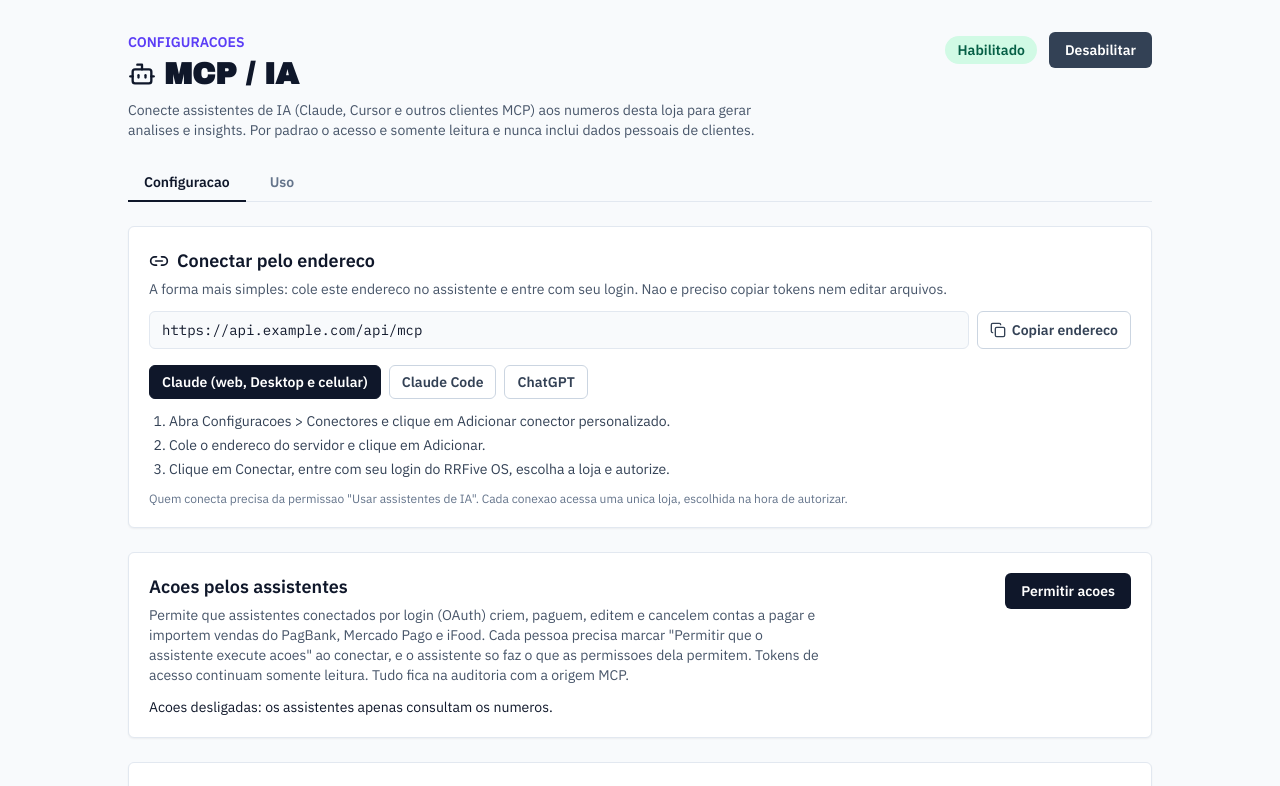
Test case: McpSettingsClient › refreshes the usage log keeping the current filters and page
Click the tab "Uso".
click(282, 183)  # box [254,164,310,202]
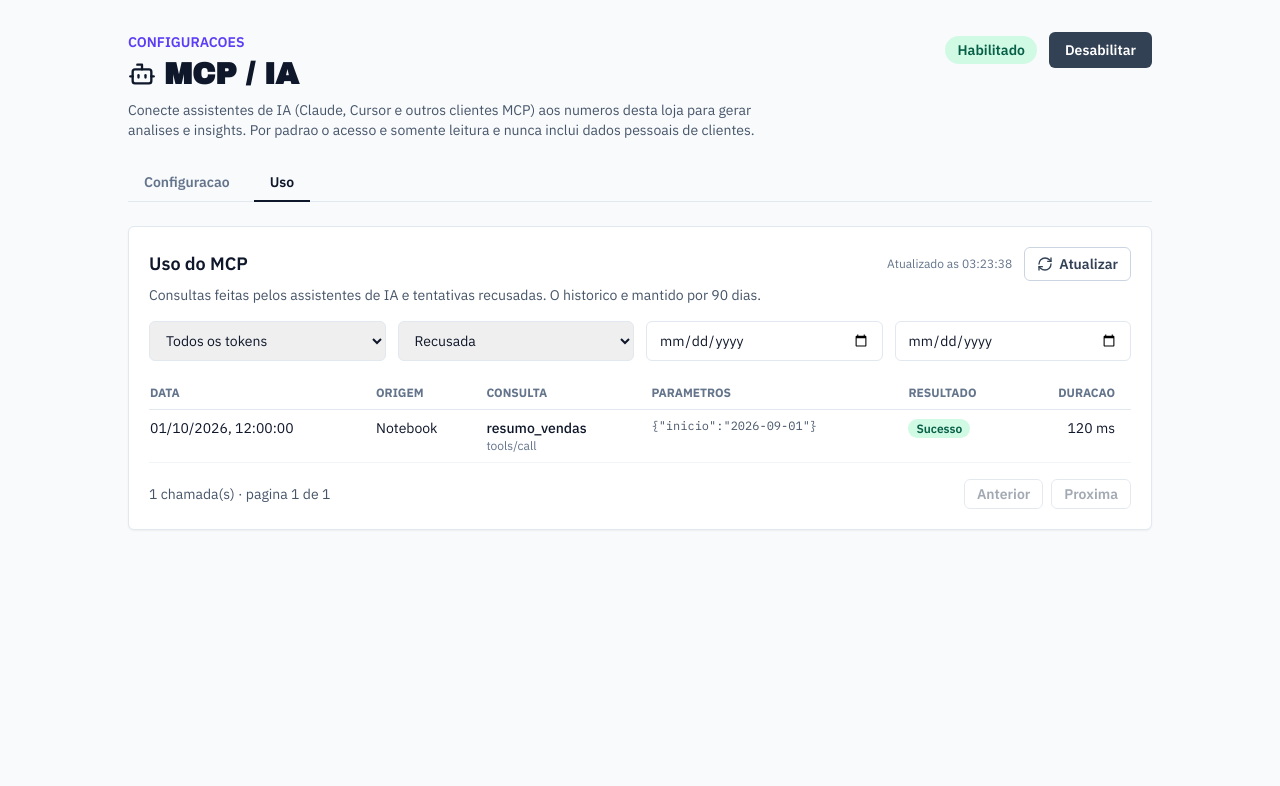
Select "Recusada" in the dropdown named "Filtrar por resultado" at (516, 341), box [398,321,634,361]
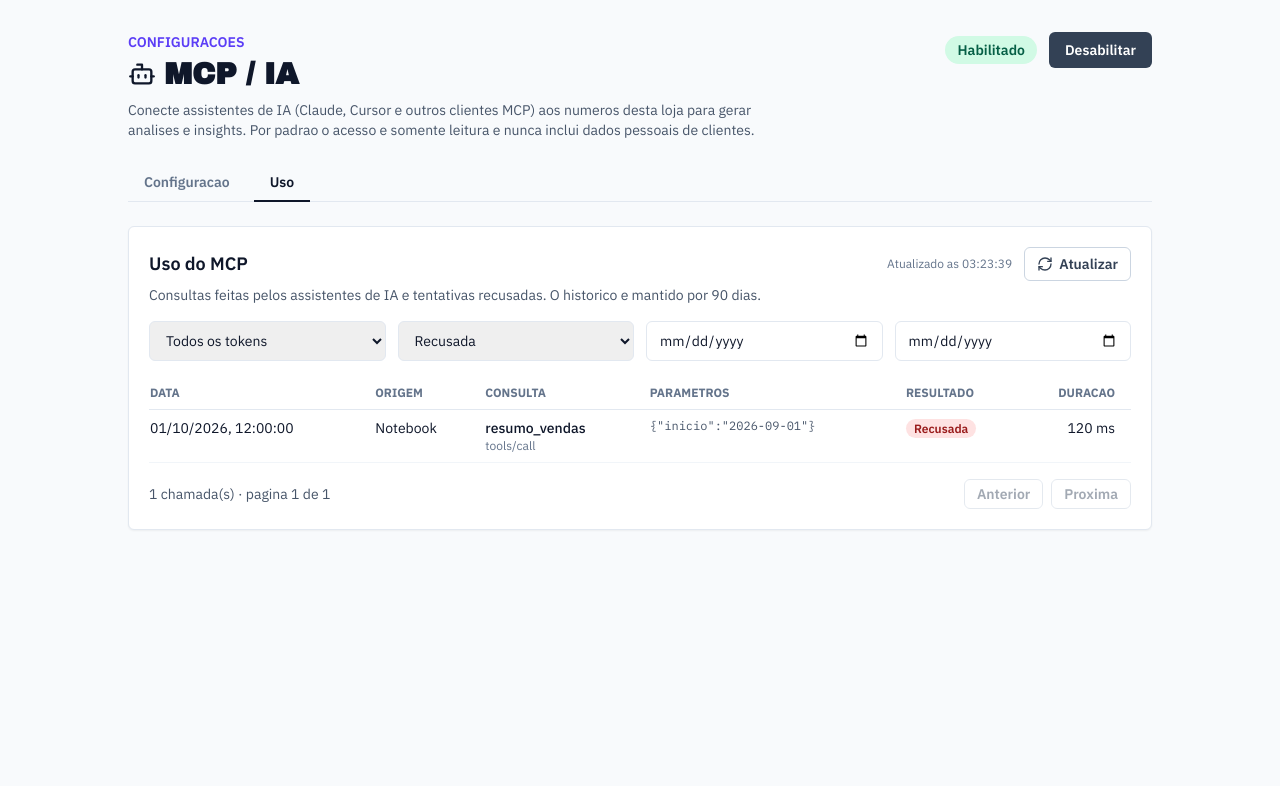
Expected: the text "Atualizado as" is shown, [887,256,962,271]
Click the button "Atualizar".
click(1078, 264)  # box [1024,247,1131,281]
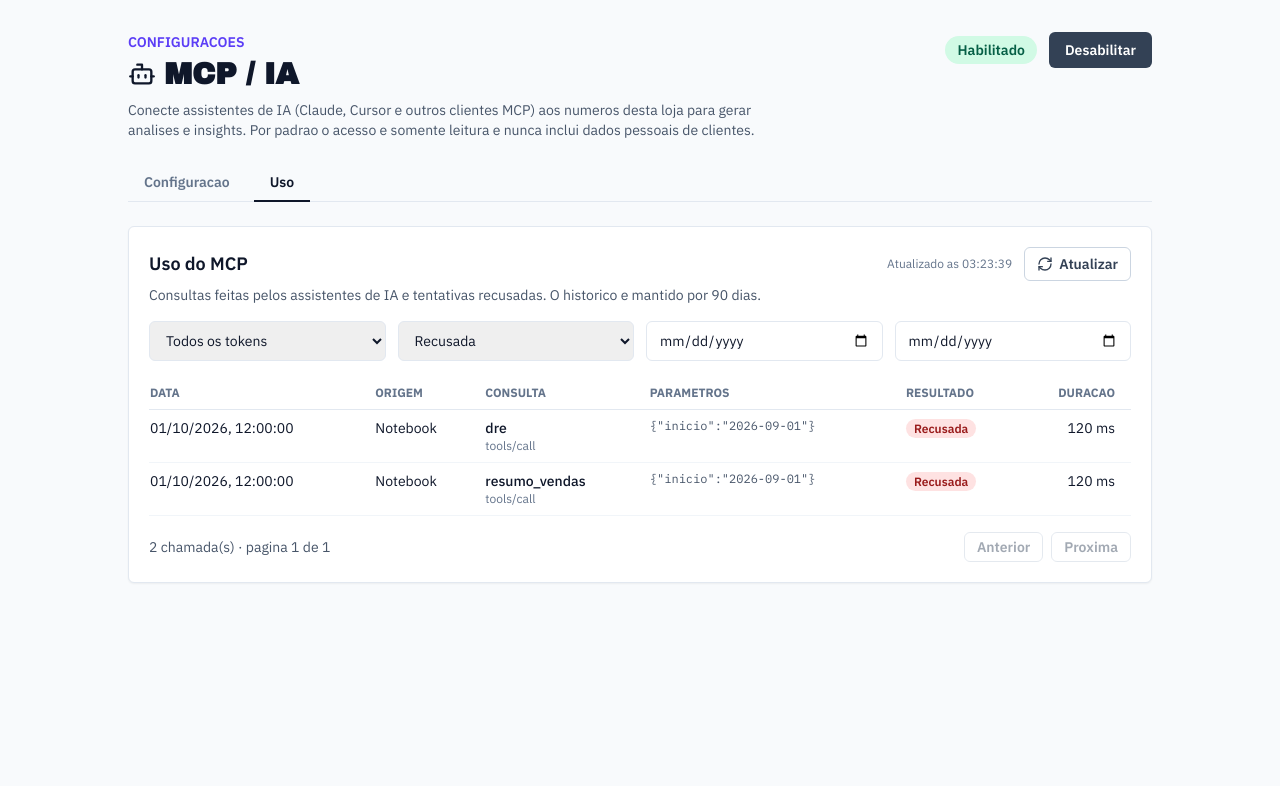
Expected: the text "dre" is shown, [485,419,507,437]
Expected: the text "2 chamada(s)" is shown, [149,537,330,557]
